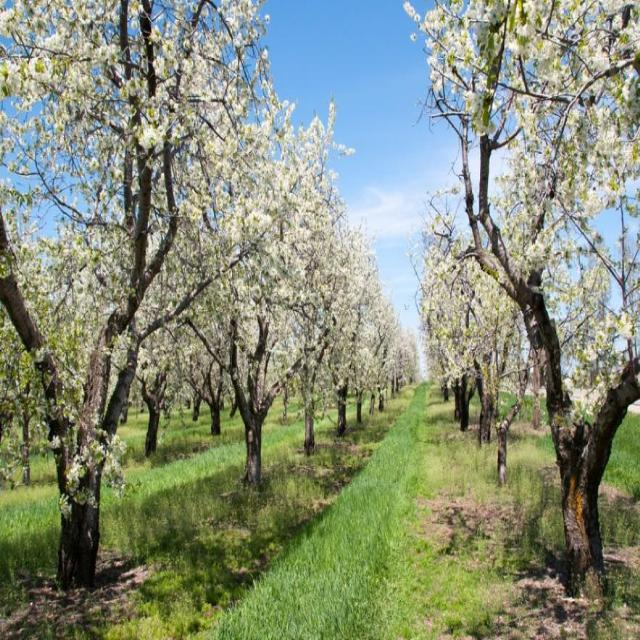row: (59, 384, 560, 640)
